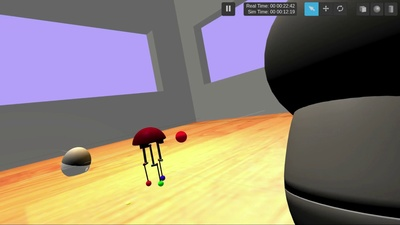mira_robot: (61, 147, 91, 177)
